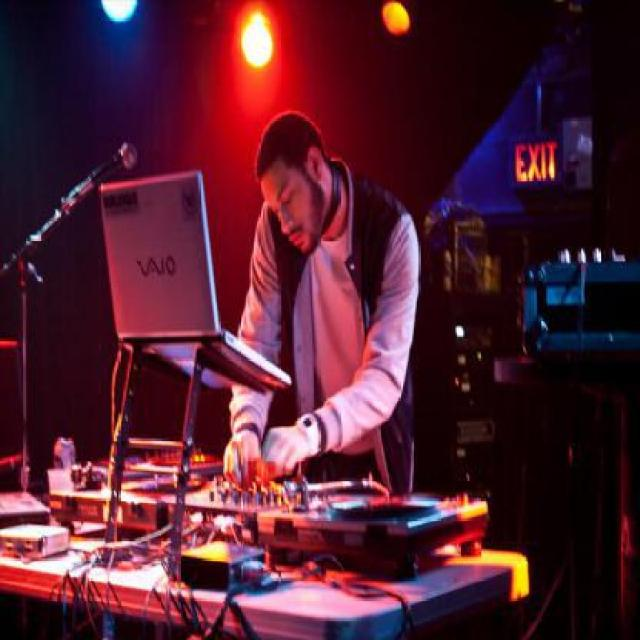Person: (220, 110, 423, 495)
